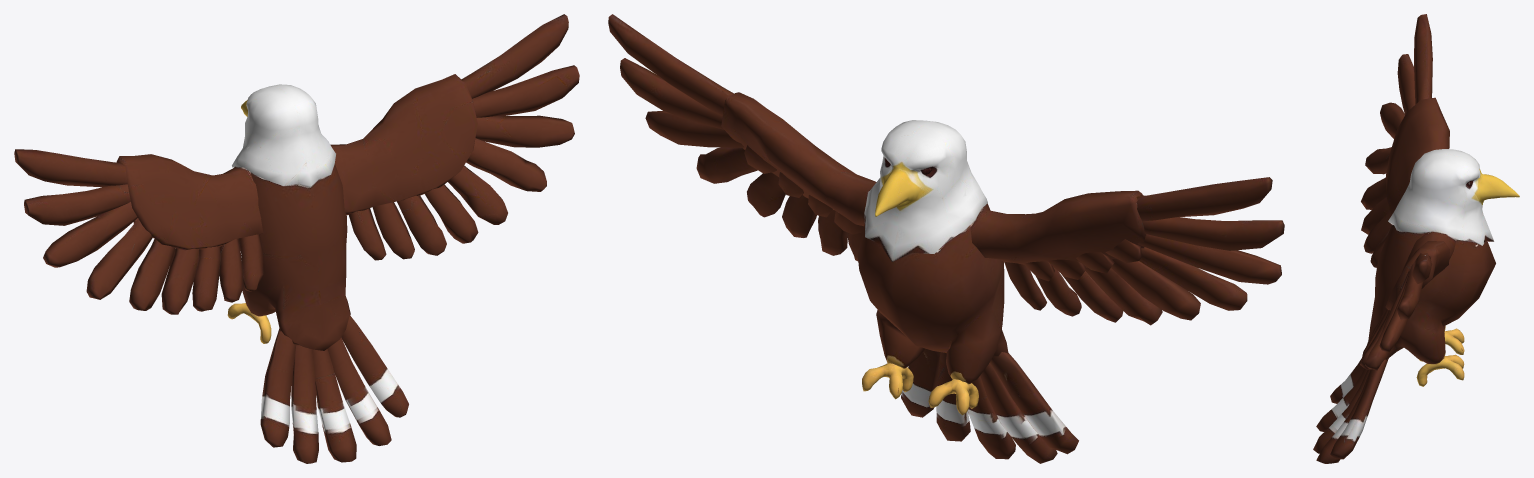
Rendered from hawk.glb.
3 views of the same model, side by side, from view 1: azimuth 30°, elevation 25°; view 2: azimuth 150°, elevation 25°; view 3: azimuth 270°, elevation 25° (orthographic). The views are drawn at different scales.
Parts seen in each view (by area): view 1: Part0, Part2, Part1; view 2: Part0, Part1, Part2; view 3: Part0, Part1, Part2.
Part boxes in pixels (box(x1,y1,x2,y2)): Part0: box(87, 84, 539, 463); Part2: box(331, 14, 579, 229); Part1: box(14, 149, 257, 297); Part0: box(698, 120, 1246, 463); Part1: box(988, 177, 1284, 309); Part2: box(608, 14, 874, 234); Part0: box(1313, 149, 1519, 463); Part1: box(1365, 14, 1449, 227); Part2: box(1365, 237, 1452, 370).
Size of the model in its own units: 1.7 by 1.01 by 0.5971.
Materials: 1 (1 with a texture image).
